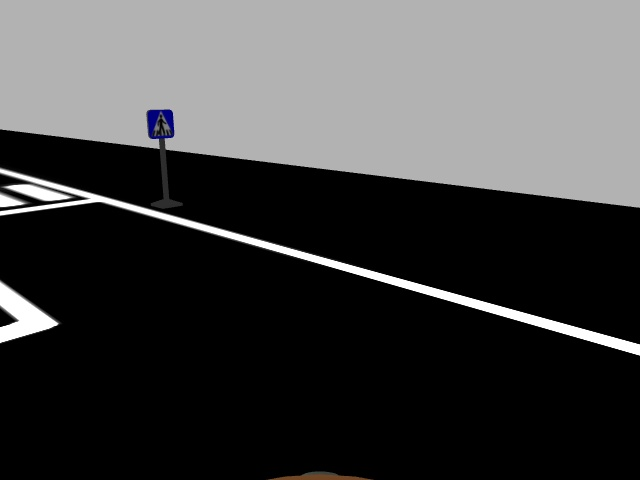crosswalk: (144, 106, 177, 141)
